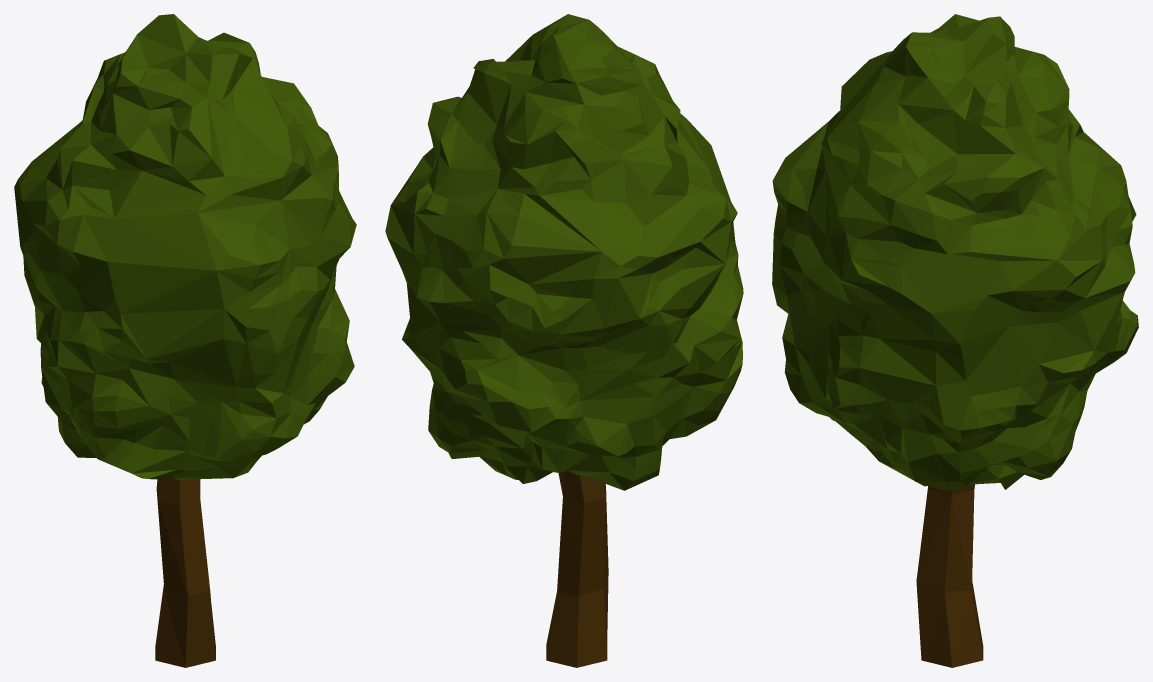
Rendered from Tree.fbx.
The picture shows the model from 3 angles, left to right: view 1: azimuth 30°, elevation 25°; view 2: azimuth 150°, elevation 25°; view 3: azimuth 270°, elevation 25°; orthographic projection. The views are drawn at different scales.
Visible parts, largest first — view 1: tree; view 2: tree; view 3: tree.
Part boxes in pixels (box(x1,y1,x2,y2)): tree: box(14, 14, 356, 667); tree: box(385, 14, 743, 667); tree: box(772, 14, 1138, 667).
Size of the model in its own units: 3.02 by 6.07 by 3.16.
